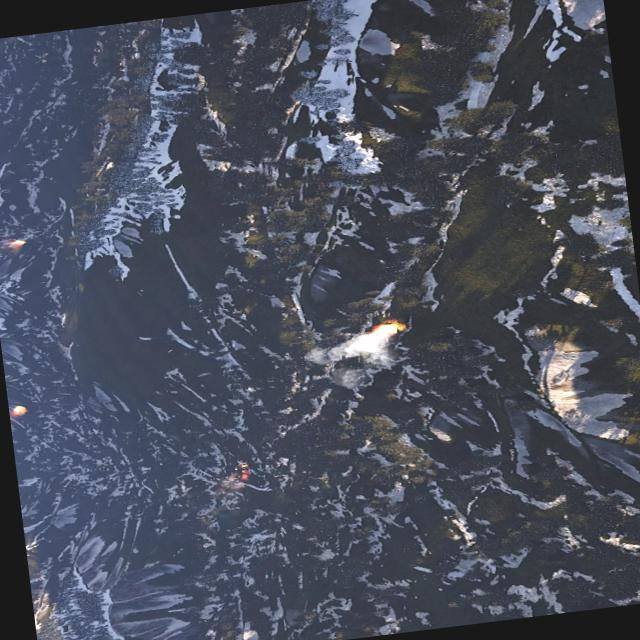fire: (372, 318, 403, 336), (235, 460, 252, 480), (11, 402, 26, 414), (11, 238, 28, 248)
smoke: (306, 325, 400, 389), (213, 472, 250, 502)
